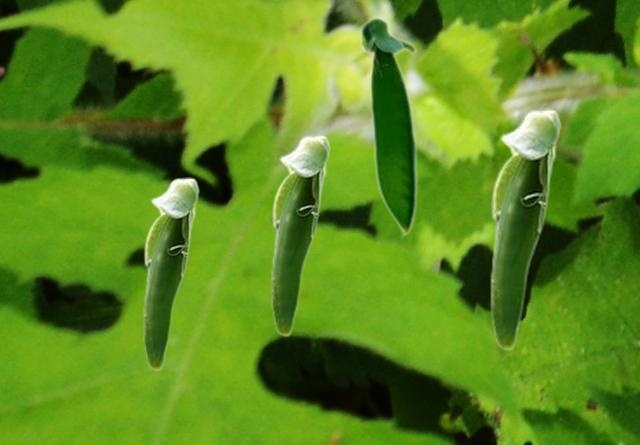pea: (489, 108, 561, 350), (358, 15, 417, 239), (270, 134, 330, 336), (142, 177, 199, 370)
